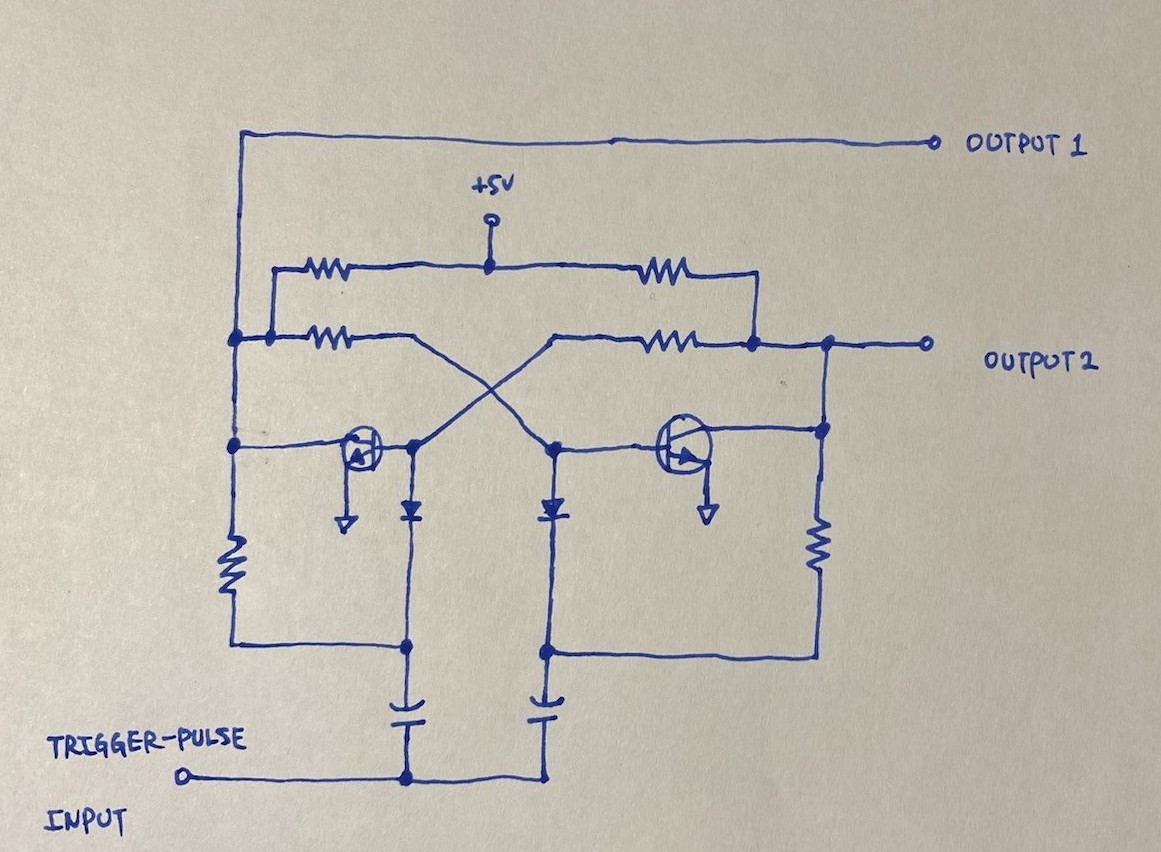capacitor.unpolarized: (521, 690, 573, 733), (383, 697, 439, 733)
diode: (535, 492, 573, 529), (394, 494, 428, 528)
gnd: (688, 496, 725, 533), (329, 508, 363, 539)
junction: (532, 434, 571, 463), (217, 429, 250, 461), (475, 374, 506, 405), (809, 331, 842, 359), (399, 431, 428, 461), (538, 324, 570, 351), (736, 329, 766, 357), (808, 415, 838, 443), (392, 766, 423, 793), (224, 323, 250, 355), (392, 633, 421, 661), (532, 635, 560, 663), (476, 254, 503, 282), (532, 765, 558, 794), (259, 324, 283, 355), (231, 120, 256, 147), (803, 643, 827, 670), (221, 629, 244, 655), (744, 261, 766, 288), (399, 323, 421, 348), (264, 257, 286, 280)
resistor: (633, 325, 709, 357), (216, 532, 249, 604), (633, 253, 692, 290), (299, 321, 361, 353), (299, 251, 355, 285), (805, 514, 833, 574)
terminal: (907, 331, 953, 360), (915, 130, 956, 158), (474, 207, 512, 236), (173, 765, 194, 788)
text: (43, 726, 248, 759), (962, 127, 1092, 165), (979, 343, 1101, 380), (42, 804, 131, 841), (469, 170, 517, 197)
transistor: (650, 411, 721, 478), (337, 424, 385, 476)
